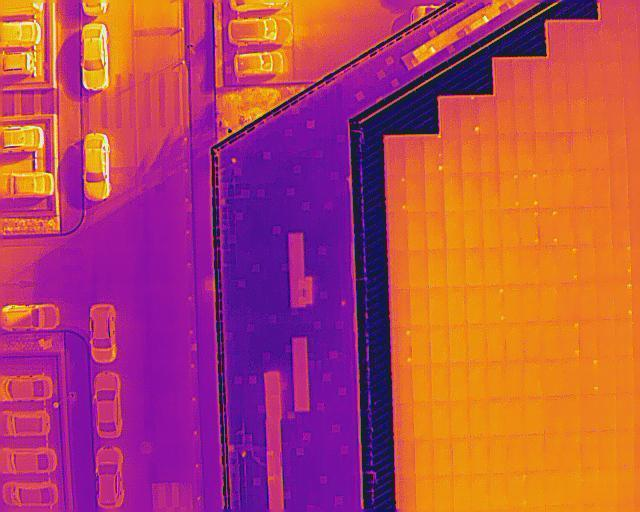Cell-Multi: (499, 173, 520, 210), (393, 326, 412, 366), (388, 172, 407, 212), (461, 95, 480, 134), (486, 285, 504, 326), (614, 283, 633, 321), (561, 323, 580, 360), (519, 172, 538, 209), (424, 136, 443, 173), (521, 209, 539, 248), (558, 247, 577, 283), (581, 358, 599, 395), (540, 211, 558, 247)
No-Anomaly: (465, 286, 487, 326), (503, 248, 524, 287), (444, 211, 465, 249), (490, 473, 510, 512), (480, 134, 500, 173), (433, 401, 453, 440), (426, 212, 447, 249), (449, 324, 468, 364), (505, 324, 525, 362), (541, 323, 561, 361), (389, 211, 408, 251), (502, 210, 522, 248), (593, 209, 613, 247), (424, 173, 444, 211), (463, 173, 483, 211), (461, 134, 481, 172), (602, 22, 622, 60), (396, 438, 416, 476), (508, 435, 528, 473), (489, 398, 509, 436), (543, 397, 563, 435), (468, 325, 487, 364), (509, 473, 528, 512), (448, 287, 467, 326), (428, 286, 447, 325), (485, 248, 504, 287), (444, 172, 463, 211), (540, 286, 560, 323), (428, 249, 448, 286), (481, 173, 501, 210), (607, 135, 627, 172), (499, 135, 519, 172), (532, 97, 552, 134), (495, 59, 515, 96), (583, 22, 603, 59), (546, 435, 566, 472), (412, 365, 432, 402), (542, 361, 562, 398), (453, 474, 472, 512), (391, 288, 410, 326), (410, 287, 429, 325), (505, 286, 524, 324), (595, 284, 614, 322), (466, 249, 485, 287), (522, 247, 541, 285), (464, 211, 483, 249), (483, 210, 502, 248), (406, 135, 425, 173), (490, 435, 509, 473), (528, 434, 547, 472), (599, 431, 618, 469), (470, 400, 489, 438), (507, 397, 526, 435), (412, 325, 430, 365), (545, 471, 565, 507), (386, 136, 406, 172), (553, 133, 571, 173), (451, 400, 471, 436), (601, 62, 622, 96), (616, 356, 635, 393), (598, 469, 617, 506), (586, 96, 605, 133), (414, 402, 433, 439), (394, 366, 413, 403), (468, 363, 487, 400), (449, 362, 468, 399), (524, 324, 542, 363), (578, 283, 596, 322), (447, 248, 465, 287), (588, 134, 606, 173), (518, 134, 536, 173), (605, 95, 623, 134), (472, 436, 490, 475), (571, 174, 591, 209), (532, 60, 552, 95), (431, 325, 449, 363), (435, 476, 454, 512), (523, 286, 541, 324), (617, 468, 635, 506), (390, 251, 409, 287), (408, 251, 427, 287), (541, 248, 559, 286), (560, 284, 578, 322), (408, 212, 426, 250), (612, 208, 630, 246), (443, 136, 462, 172), (442, 99, 461, 135), (480, 97, 498, 135), (513, 59, 531, 97), (565, 23, 584, 59), (415, 439, 433, 477), (395, 403, 414, 439), (431, 364, 450, 400), (524, 361, 542, 399), (581, 395, 599, 433), (487, 326, 505, 363), (597, 321, 615, 358), (472, 475, 490, 512), (595, 247, 613, 284), (613, 245, 631, 282), (575, 210, 593, 247), (407, 175, 425, 212), (514, 96, 532, 133), (550, 59, 568, 96), (549, 23, 567, 60), (454, 437, 472, 474), (616, 393, 634, 430), (488, 362, 506, 399), (615, 321, 634, 356), (591, 174, 610, 209), (434, 440, 453, 475), (525, 399, 544, 434), (536, 134, 553, 173), (571, 134, 588, 173), (618, 430, 635, 469), (397, 476, 415, 512), (506, 362, 524, 398), (562, 359, 580, 395), (599, 395, 617, 431), (416, 478, 435, 512), (498, 97, 515, 135), (582, 432, 599, 470), (577, 248, 595, 283), (599, 358, 616, 395), (580, 322, 597, 359), (558, 210, 575, 247), (555, 173, 572, 210), (564, 397, 581, 434), (529, 471, 546, 507), (564, 472, 582, 506), (538, 174, 555, 210), (611, 173, 628, 209), (569, 97, 586, 133), (567, 61, 584, 97), (582, 471, 599, 506), (585, 61, 602, 96), (553, 96, 569, 133), (565, 434, 581, 471)
